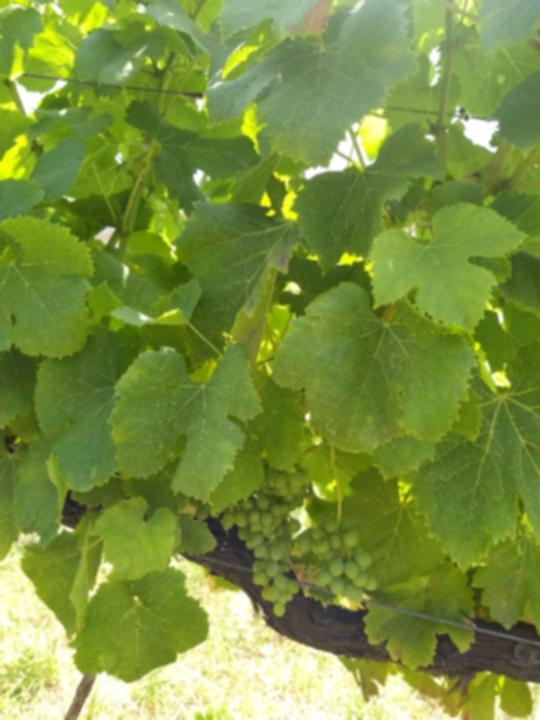grape: (213, 464, 383, 619)
